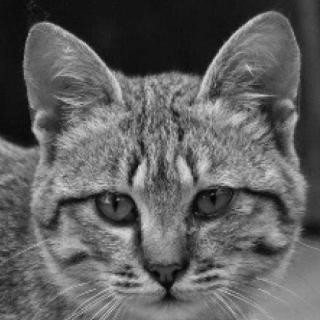cat: (15, 15, 316, 320)
nose: (137, 223, 191, 297)
